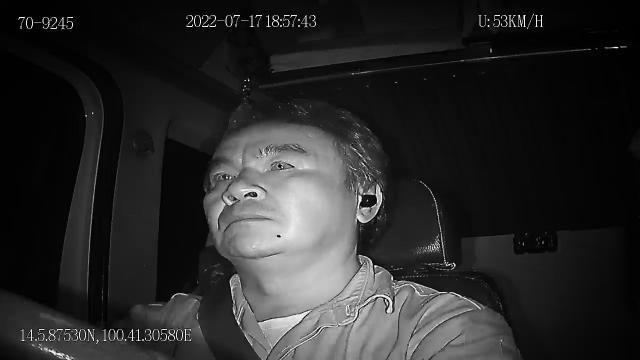SafeDriving: (260, 148, 303, 178), (207, 162, 243, 188)
Seatbelt: (195, 266, 265, 360)
